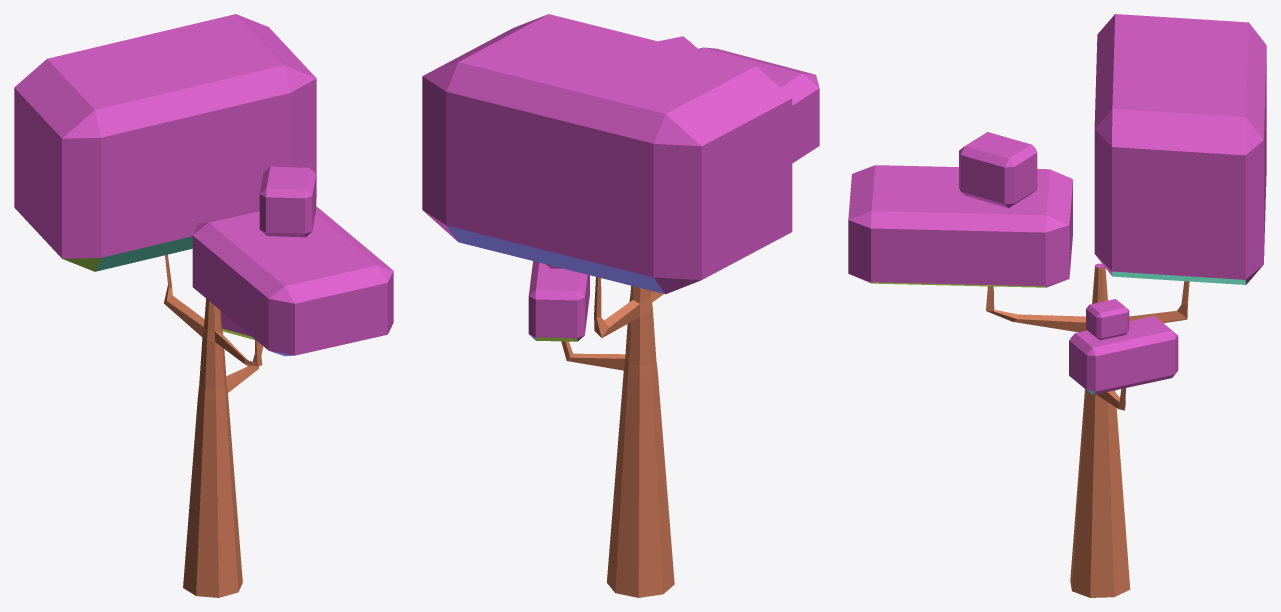
File: ENV_pinkblocktrees_color.fbx
3 views of the same model, side by side, from view 1: azimuth 30°, elevation 25°; view 2: azimuth 150°, elevation 25°; view 3: azimuth 270°, elevation 25° (orthographic). The views are drawn at different scales.
Visible parts, largest first — view 1: Cube.012; view 2: Cube.012; view 3: Cube.012.
Part boxes in pixels (bbox=[...]): Cube.012: bbox=[14, 14, 393, 597]; Cube.012: bbox=[422, 14, 819, 597]; Cube.012: bbox=[848, 14, 1266, 597].
Size of the model in its own units: 740 by 570 by 1005.
